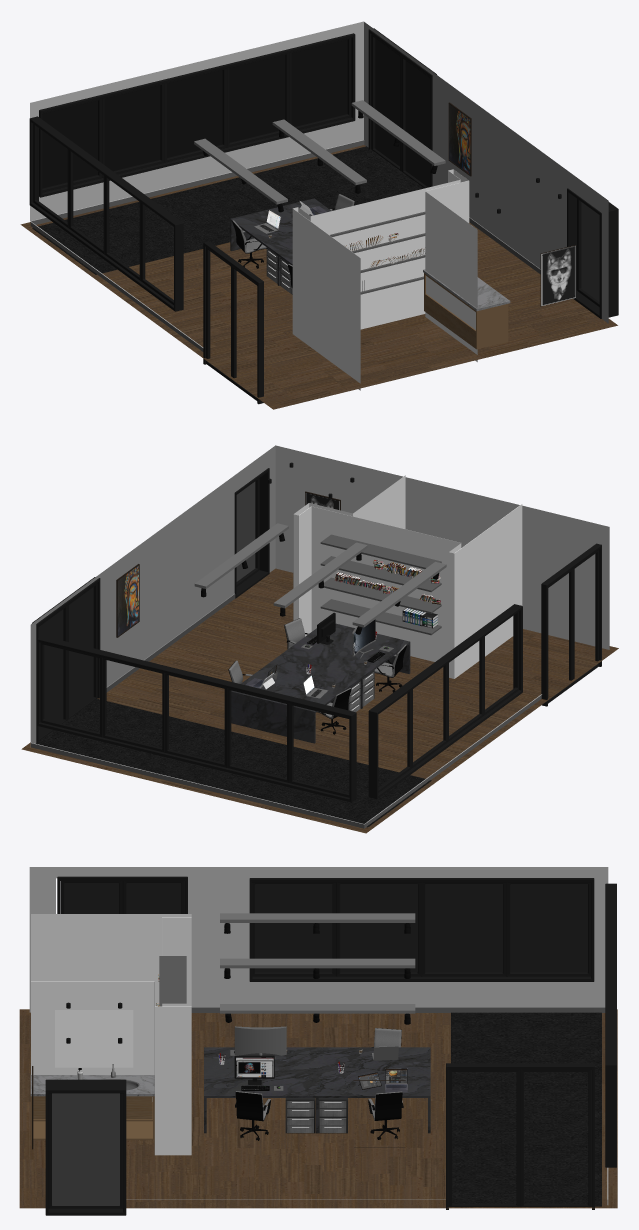
Rendered from studio_office_interior(2).glb.
3 renders of one model, top to bottom at view 1: azimuth 30°, elevation 25°; view 2: azimuth 150°, elevation 25°; view 3: azimuth 270°, elevation 25°, orthographic. The views are drawn at different scales.
Parts seen in each view (by area): view 1: Plane.013, Plane.002, Plane.004, Plane.007, Plane.016, Plane.015, Plane.006, Plane.010, Cube.001, Plane.003, Rectangle013.001, Plane.020 (+12 smaller); view 2: Plane.013, Plane.015, Plane.002, Plane.007, Plane.016, Plane, Plane.006, Plane.003, Plane.004, Cube, Plane.010, Cube.001 (+11 smaller); view 3: Plane.013, Plane.020, Plane.016, Plane.015, Plane.002, Plane, Plane.012, Cube.001, Mirror, Plane.010, Plane.009, Plane.003 (+11 smaller).
Part boxes in pixels (x1=…): Plane.013: x1=20, y1=145, x2=617, y2=409; Plane.002: x1=292, y1=169, x2=477, y2=390; Plane.004: x1=42, y1=38, x2=351, y2=192; Plane.007: x1=364, y1=22, x2=608, y2=323; Plane.016: x1=32, y1=146, x2=424, y2=274; Plane.015: x1=30, y1=21, x2=364, y2=351; Plane.006: x1=371, y1=34, x2=430, y2=188; Plane.010: x1=29, y1=116, x2=183, y2=311; Cube.001: x1=194, y1=100, x2=445, y2=204; Plane.003: x1=39, y1=33, x2=355, y2=197; Rectangle013.001: x1=423, y1=269, x2=510, y2=349; Plane.020: x1=33, y1=124, x2=173, y2=304; Plane.013: x1=21, y1=568, x2=618, y2=833; Plane.015: x1=31, y1=445, x2=609, y2=828; Plane.002: x1=293, y1=475, x2=522, y2=678; Plane.007: x1=30, y1=445, x2=275, y2=747; Plane.016: x1=36, y1=699, x2=431, y2=827; Plane: x1=231, y1=623, x2=410, y2=743; Plane.006: x1=38, y1=583, x2=97, y2=740; Plane.003: x1=37, y1=635, x2=356, y2=802; Plane.004: x1=40, y1=643, x2=349, y2=797; Cube: x1=320, y1=534, x2=441, y2=635; Plane.010: x1=368, y1=604, x2=522, y2=799; Cube.001: x1=194, y1=523, x2=446, y2=627; Plane.013: x1=19, y1=1009, x2=617, y2=1208; Plane.020: x1=252, y1=882, x2=591, y2=976; Plane.016: x1=451, y1=1012, x2=601, y2=1206; Plane.015: x1=29, y1=867, x2=608, y2=1205; Plane.002: x1=31, y1=914, x2=191, y2=1155; Plane: x1=204, y1=1047, x2=430, y2=1133; Plane.012: x1=48, y1=1093, x2=123, y2=1208; Cube.001: x1=220, y1=913, x2=415, y2=1013; Mirror: x1=55, y1=1010, x2=133, y2=1067; Plane.010: x1=249, y1=878, x2=594, y2=981; Plane.009: x1=60, y1=880, x2=184, y2=913; Plane.003: x1=605, y1=883, x2=616, y2=1167.
Size of the model in its own units: 8.88 by 3.13 by 11.05.
69 materials, 25 textured.
